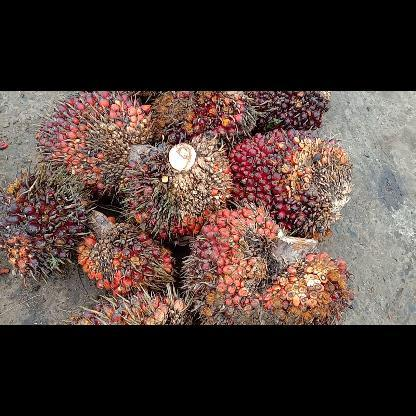TBS masak: (184, 207, 350, 324), (226, 128, 352, 240), (36, 92, 154, 202), (121, 138, 233, 240), (1, 166, 90, 280), (80, 211, 176, 294), (150, 92, 256, 136), (58, 292, 190, 324), (252, 93, 332, 133)
